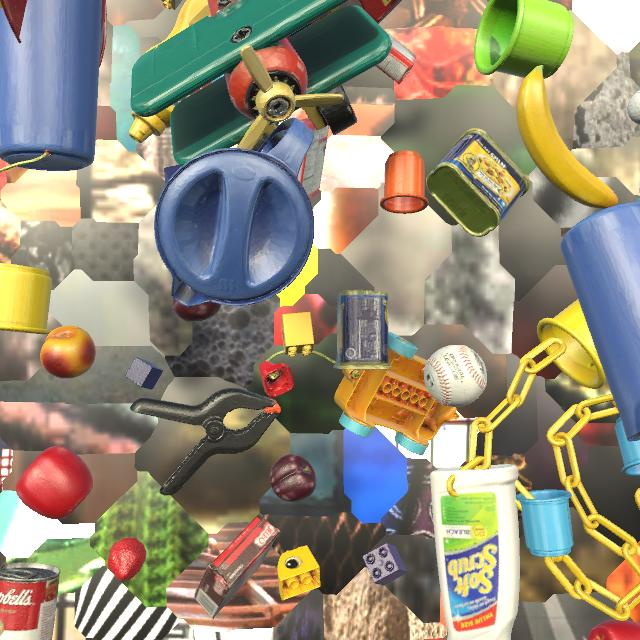ycb_003_cracker_box: (340, 0, 402, 24)
ycb_005_tomato_soup_can: (0, 562, 61, 640)
ycb_006_mustard_bottle: (129, 0, 212, 143)
ycb_008_pudding_box: (194, 513, 280, 619)
ycb_009_gelatin_box: (297, 117, 329, 199), (376, 31, 417, 84)
ycb_010_potted_meat_can: (426, 128, 530, 237), (334, 290, 392, 370)
ycb_011_banana: (516, 65, 618, 209)
ycb_012_strawberry: (107, 537, 147, 581)
ycb_013_apple: (15, 446, 93, 520), (588, 619, 640, 640)
ycb_015_peach: (40, 326, 96, 379)
ycb_018_plum: (269, 454, 317, 502), (172, 298, 221, 322)
